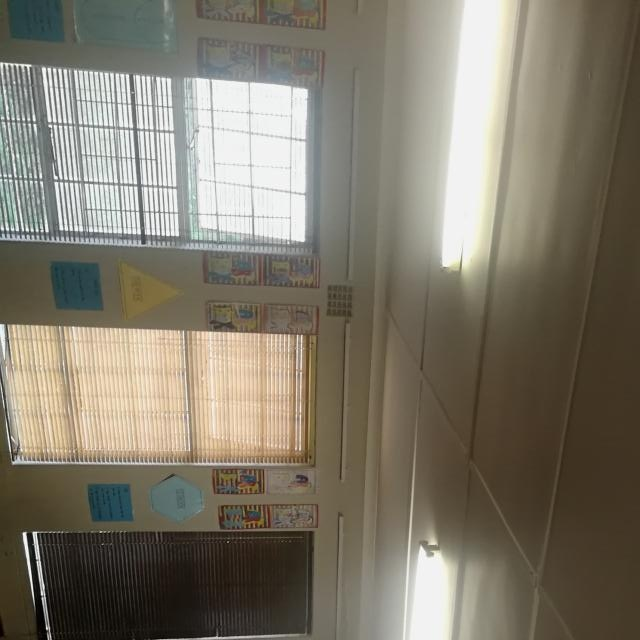fluorescent tube: (422, 0, 553, 281), (356, 530, 457, 640)
